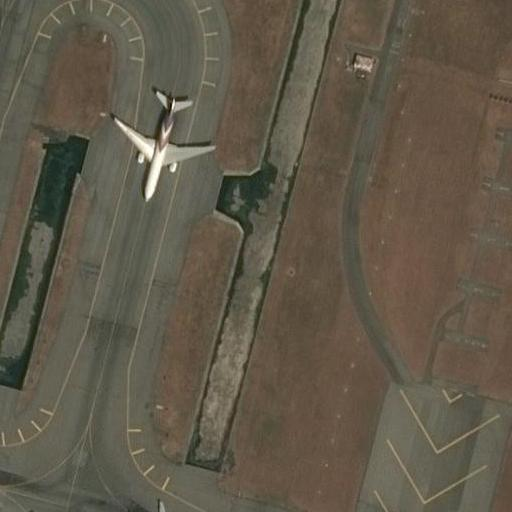Aircraft: (105, 82, 220, 197), (118, 499, 195, 512)
